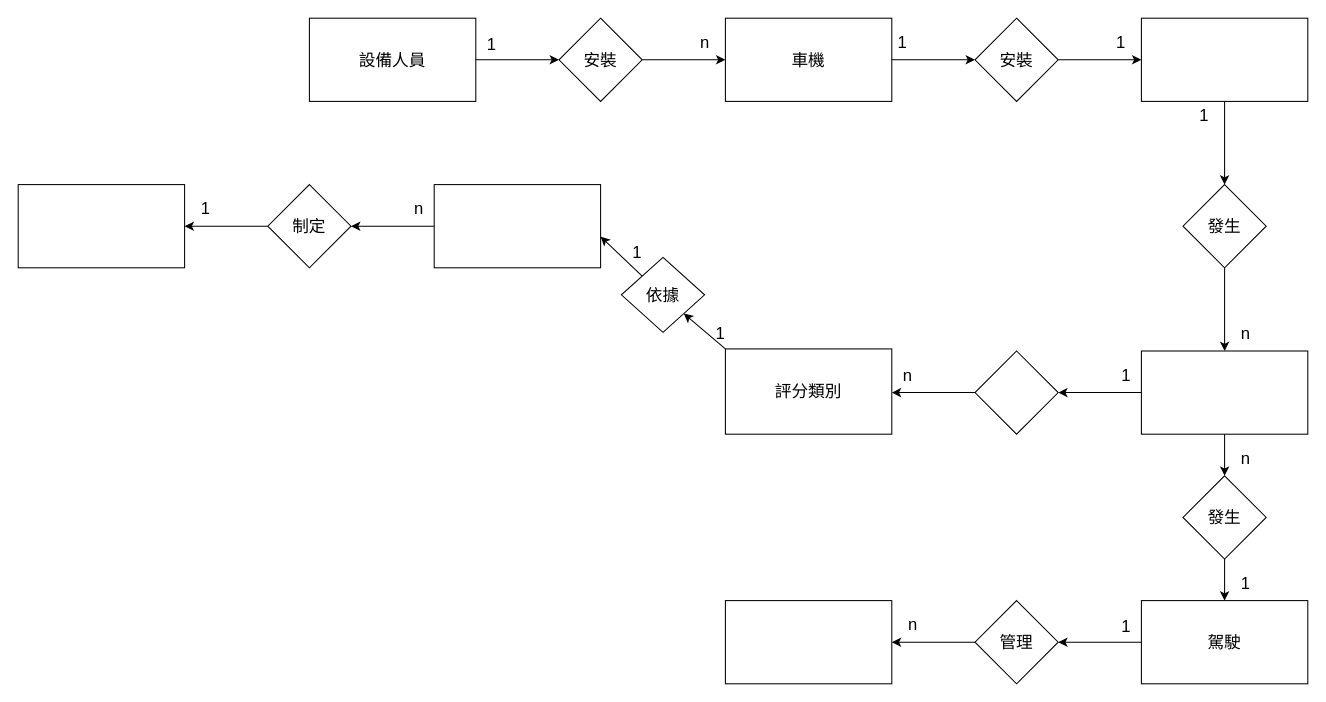
Some shapes in this 1326 by 702 pixel diagram are drawn without their labels. The shapes that lost their labels are listed below. From the top down, each one's centre as x and y in pixels, then its label:
At (x=1224, y=59): "車輛".
At (x=101, y=226): "軟體工程師".
At (x=517, y=226): "評分標準".
At (x=1016, y=392): "包含".
At (x=1224, y=392): "駕駛個案".
At (x=808, y=642): "管理者".
